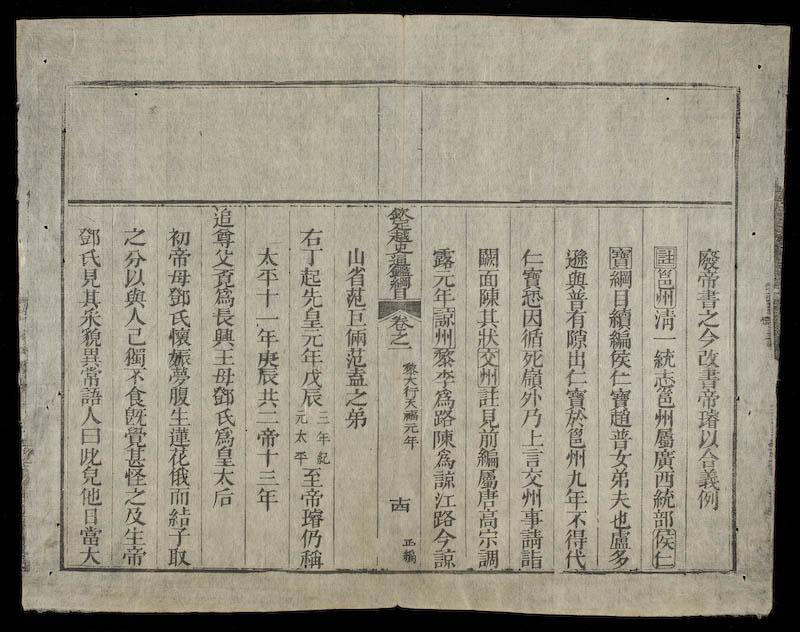c: (650, 306, 679, 332), (429, 245, 458, 270), (606, 244, 635, 269), (252, 486, 281, 511), (562, 246, 592, 270), (384, 255, 416, 277), (651, 243, 679, 268), (386, 276, 415, 300), (695, 246, 723, 270), (253, 245, 282, 268), (561, 527, 590, 550), (208, 205, 237, 228), (75, 224, 104, 247), (650, 346, 679, 369), (342, 406, 369, 430), (121, 463, 149, 486), (606, 427, 634, 450), (121, 425, 149, 448), (297, 225, 325, 248), (165, 505, 193, 528), (516, 528, 545, 550), (517, 327, 546, 349), (119, 544, 148, 566), (517, 507, 546, 529), (429, 548, 459, 569), (476, 245, 502, 269), (342, 245, 369, 268), (298, 308, 325, 331), (694, 407, 722, 429), (649, 528, 677, 550), (430, 306, 458, 328), (253, 387, 281, 409), (650, 448, 678, 470), (606, 307, 634, 329), (518, 246, 546, 268), (120, 225, 148, 247), (76, 385, 105, 406), (119, 525, 148, 546), (164, 546, 193, 567), (297, 507, 326, 528), (296, 548, 325, 569), (210, 385, 237, 407), (695, 327, 722, 349), (122, 384, 149, 406), (298, 466, 325, 488), (165, 225, 192, 247), (165, 246, 192, 268), (210, 486, 237, 508), (254, 326, 281, 348), (165, 286, 192, 308), (518, 367, 545, 389), (694, 287, 722, 308), (694, 489, 722, 510), (518, 286, 546, 307), (694, 348, 722, 369), (121, 446, 149, 467), (297, 287, 325, 308), (429, 428, 457, 449), (474, 508, 502, 529), (649, 508, 677, 529), (298, 387, 326, 408), (430, 469, 458, 490), (121, 346, 149, 367), (165, 426, 193, 447), (166, 347, 194, 368), (253, 288, 282, 308), (563, 386, 589, 408), (607, 528, 633, 550), (475, 386, 501, 408), (563, 328, 589, 350), (519, 267, 545, 289), (342, 286, 368, 308), (606, 467, 632, 489), (693, 388, 723, 407), (77, 485, 104, 506), (77, 366, 104, 387), (297, 266, 324, 287), (430, 347, 457, 368), (77, 347, 104, 368), (519, 446, 546, 467), (122, 405, 149, 426), (76, 445, 103, 466), (386, 493, 413, 514), (430, 527, 457, 548), (210, 247, 237, 268), (518, 306, 545, 327), (474, 548, 501, 569), (165, 466, 192, 487), (210, 267, 237, 288), (210, 327, 237, 348), (430, 285, 458, 305), (694, 469, 722, 489), (76, 545, 104, 565), (518, 467, 546, 487), (209, 228, 237, 248), (253, 267, 281, 287), (430, 508, 458, 528), (298, 347, 326, 367), (474, 328, 502, 348), (606, 329, 634, 349), (474, 308, 502, 328), (694, 368, 723, 387), (652, 267, 677, 289), (563, 426, 588, 448), (476, 407, 501, 429), (607, 386, 633, 407), (695, 447, 721, 468), (475, 447, 501, 468), (254, 426, 280, 447), (77, 465, 103, 486), (651, 427, 677, 448), (475, 347, 501, 368), (122, 287, 148, 308), (77, 267, 103, 288), (211, 446, 237, 467), (518, 407, 544, 428), (431, 388, 457, 409), (166, 385, 192, 406), (76, 525, 103, 545), (607, 407, 634, 427), (210, 307, 237, 327), (166, 327, 193, 347), (650, 488, 677, 508), (516, 550, 546, 568), (607, 349, 634, 369), (562, 488, 589, 508), (121, 486, 148, 506), (474, 488, 501, 508), (475, 287, 502, 307), (607, 488, 634, 508), (166, 366, 193, 386), (518, 487, 545, 507), (165, 446, 192, 466), (298, 487, 325, 507), (210, 467, 237, 487), (210, 366, 237, 386), (211, 287, 238, 307), (254, 348, 281, 368), (297, 528, 324, 548), (386, 313, 414, 332), (606, 449, 634, 468), (650, 369, 678, 388), (694, 309, 722, 328), (606, 269, 634, 288), (430, 490, 458, 509), (76, 308, 104, 327), (517, 389, 545, 408), (343, 347, 368, 368), (343, 266, 368, 287), (212, 426, 237, 447), (77, 425, 103, 445), (431, 408, 457, 428), (563, 269, 589, 289), (563, 289, 589, 309), (343, 327, 369, 347), (475, 528, 501, 548), (652, 407, 678, 427), (122, 307, 148, 327), (121, 505, 147, 525), (78, 327, 104, 347), (212, 407, 238, 427), (121, 248, 147, 268), (77, 247, 103, 267), (299, 368, 325, 388), (166, 406, 192, 426), (166, 486, 192, 506), (474, 468, 500, 488), (431, 327, 457, 347), (431, 449, 457, 469), (431, 368, 457, 388), (650, 469, 677, 488), (77, 406, 104, 425), (562, 550, 589, 569), (210, 347, 237, 366), (76, 288, 103, 307), (165, 527, 192, 546), (166, 308, 193, 327), (342, 388, 369, 407), (518, 349, 545, 368), (254, 367, 281, 386), (254, 448, 281, 467), (342, 368, 369, 387), (651, 388, 679, 406), (562, 509, 590, 527), (297, 248, 325, 266), (608, 509, 633, 529), (563, 468, 588, 488), (563, 448, 588, 468), (476, 428, 501, 448), (563, 408, 589, 427), (563, 309, 589, 328), (563, 350, 589, 369), (649, 549, 675, 568), (121, 268, 147, 287), (297, 331, 326, 348), (607, 369, 634, 387), (253, 468, 280, 486), (165, 268, 192, 286), (385, 240, 415, 256), (476, 367, 500, 387), (430, 271, 458, 288), (123, 326, 148, 345), (695, 429, 720, 448), (608, 288, 633, 307), (520, 428, 545, 447), (343, 308, 368, 327), (476, 269, 501, 288), (563, 369, 589, 387), (695, 270, 721, 288), (607, 551, 633, 569), (122, 367, 148, 385), (78, 506, 103, 524), (653, 289, 678, 307), (253, 409, 281, 425), (386, 331, 415, 346), (385, 206, 416, 220), (253, 312, 281, 326), (384, 231, 416, 242), (649, 333, 678, 345), (386, 220, 414, 232), (400, 547, 418, 564), (314, 429, 332, 446), (292, 408, 310, 425), (292, 428, 310, 445), (401, 434, 420, 450), (400, 361, 418, 377), (292, 448, 310, 464), (315, 408, 331, 426), (400, 384, 419, 399), (400, 395, 419, 410), (315, 448, 331, 465), (401, 408, 419, 422), (401, 421, 419, 434), (400, 535, 417, 548), (386, 346, 414, 350)
